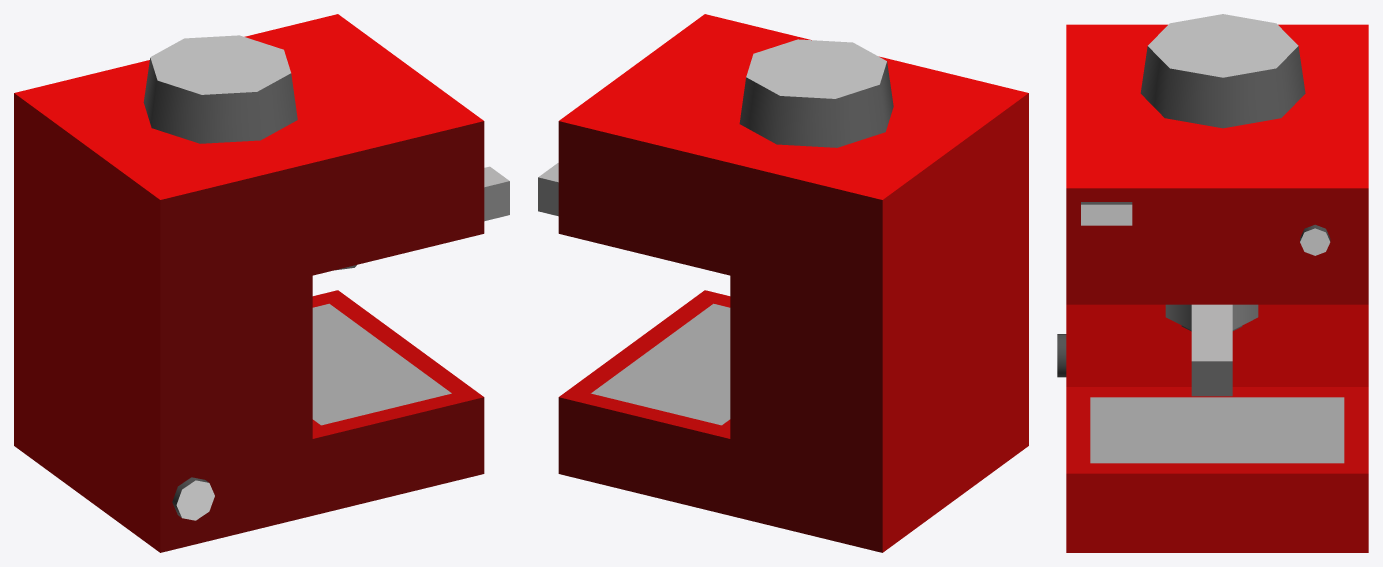
Rendered from Coffee machine.fbx.
3 views of the same model, side by side, from view 1: azimuth 30°, elevation 25°; view 2: azimuth 150°, elevation 25°; view 3: azimuth 270°, elevation 25° (orthographic). The views are drawn at different scales.
Parts seen in each view (by area): view 1: Coffee machine; view 2: Coffee machine; view 3: Coffee machine.
Boxes of the visible parts, x1,y1,x2,y2 form: Coffee machine: (14,14,509,552); Coffee machine: (538,14,1028,552); Coffee machine: (1057,14,1368,552).
Size of the model in its own units: 44.06 by 40.97 by 28.
